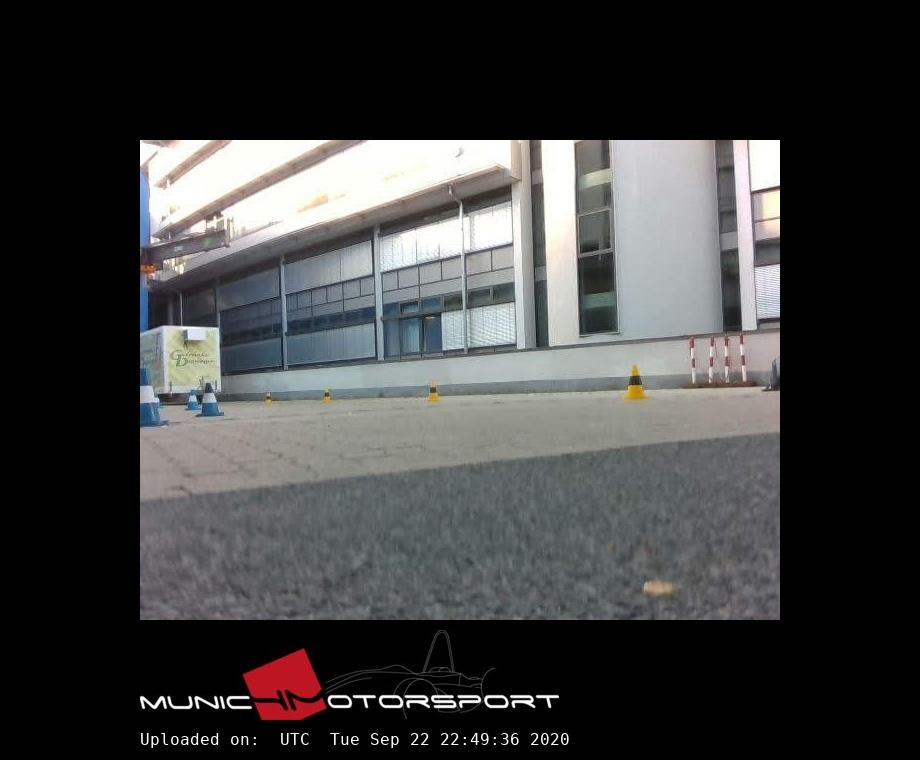blue_cone: (140, 367, 168, 426), (196, 383, 224, 417), (185, 390, 202, 410), (154, 394, 164, 408)
yellow_cone: (622, 365, 651, 400), (425, 381, 441, 402), (321, 389, 333, 404), (263, 392, 273, 405)
